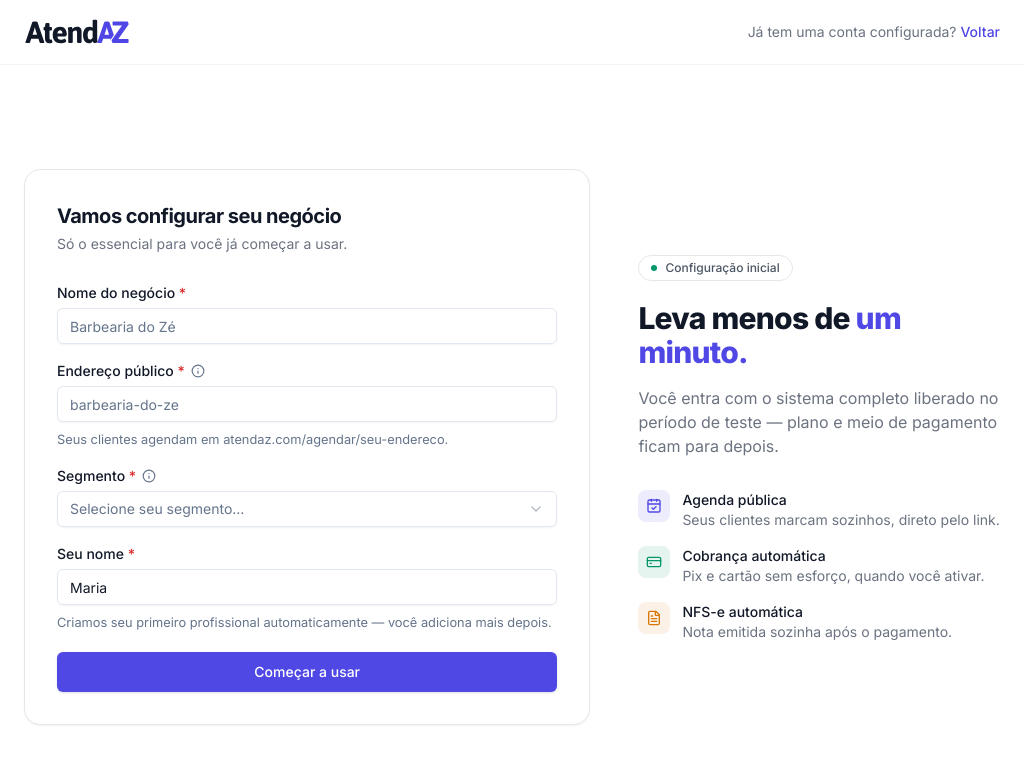
OnboardingForm › valida o slug no blur e mostra erro quando indisponível
Type "admin" into the field with placeholder "barbearia-do-ze" at coordinates (307, 404), box [57,386,557,422]
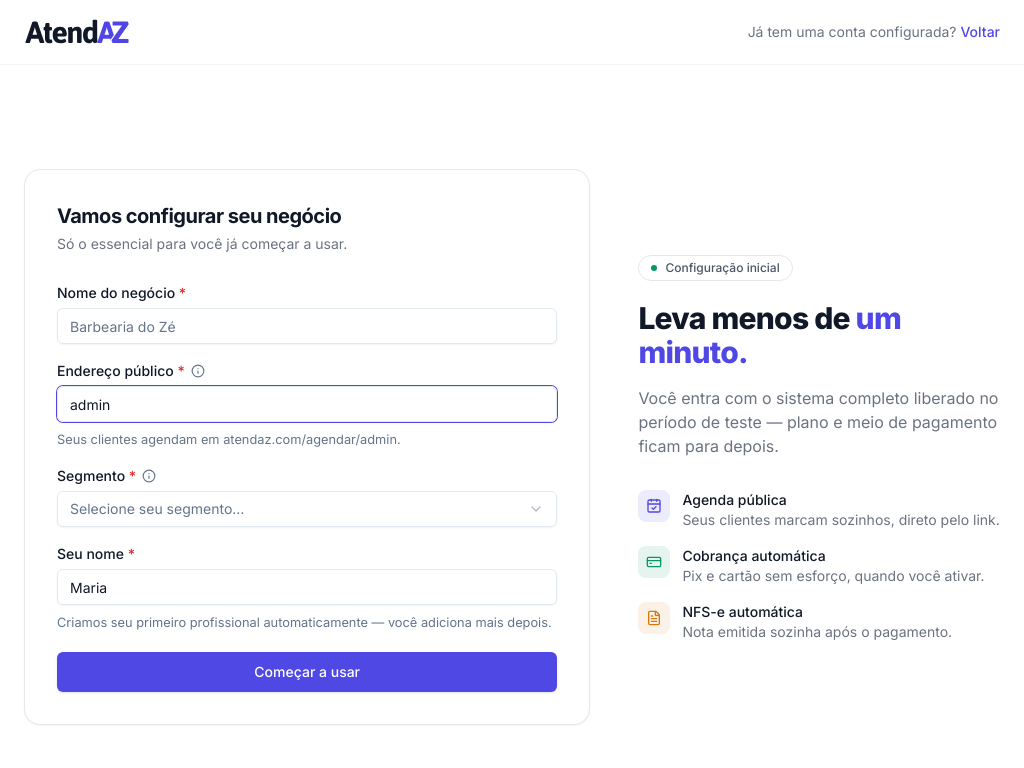
Press Tab
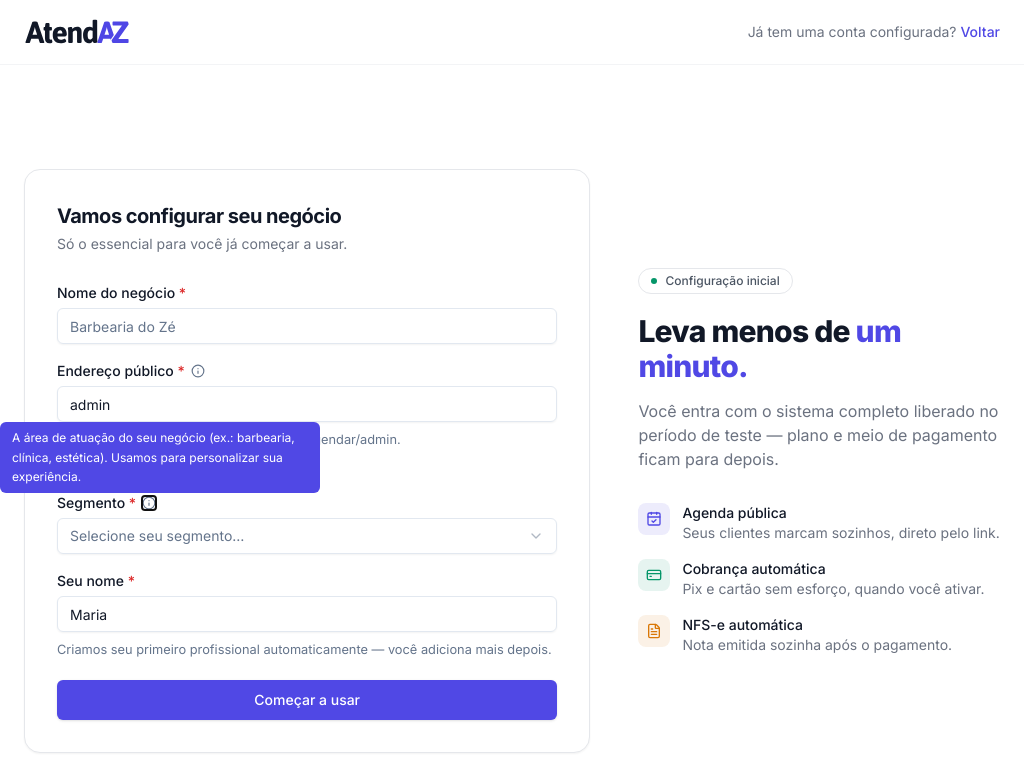
Check: the text "Slug já está em uso." is shown, box [57,459,179,474]
